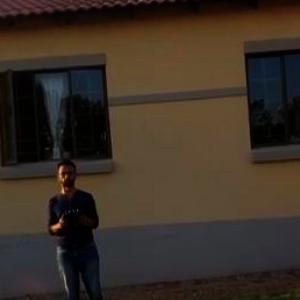follow: (43, 154, 114, 298)
